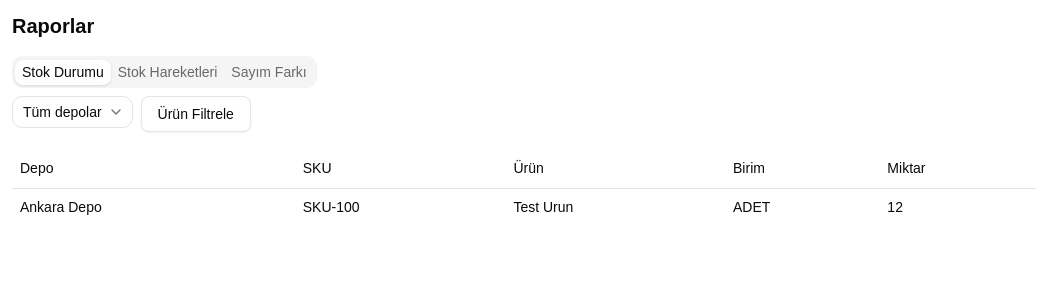
Test: ReportsPage › shows the stock movements ledger when that tab is selected
expect the text "Ankara Depo" is shown: met, box [12,188,295,224]
Click the tab "Stok Hareketleri".
click(168, 72)  # box [111,60,224,84]
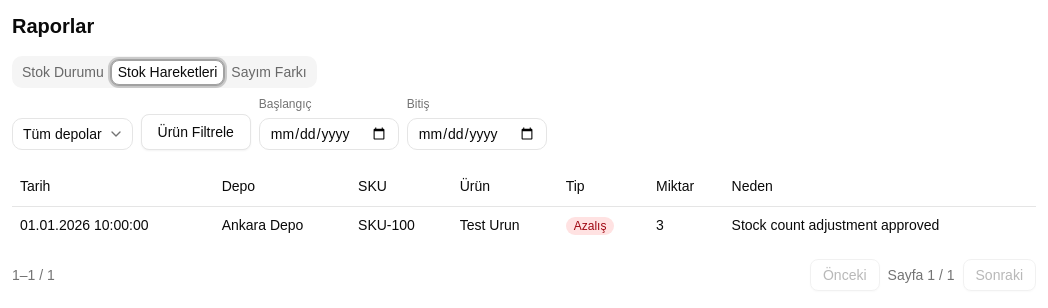
expect the text "Azalış" is shown: met, box [566,216,614,234]
expect the text "Stock count adjustment approved" is shown: met, box [724,206,1036,242]
